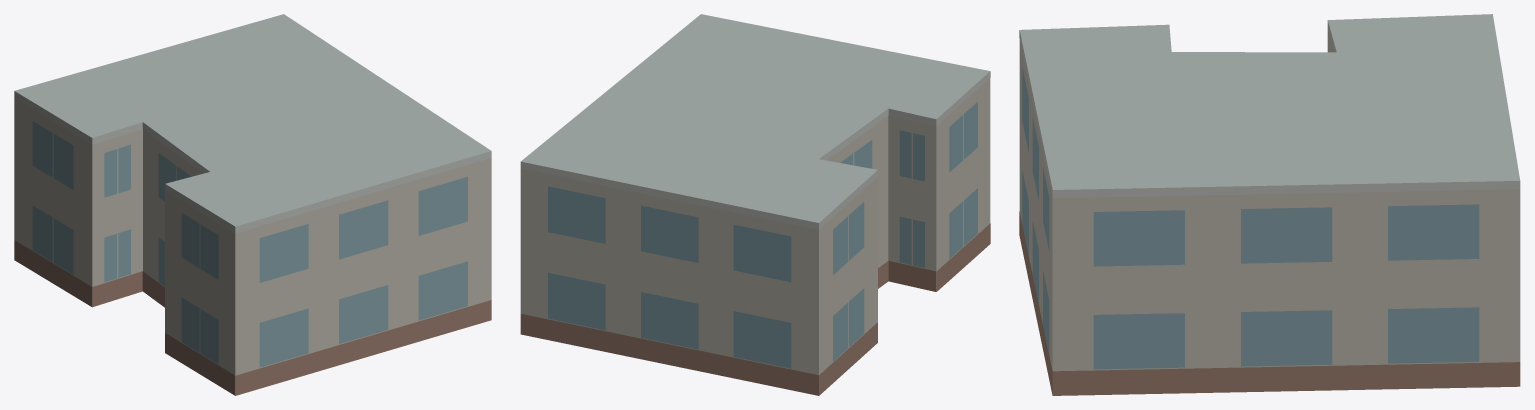
Rendered from survey-upis-32926841.glb.
3 renders of one model, left to right at view 1: azimuth 30°, elevation 25°; view 2: azimuth 150°, elevation 25°; view 3: azimuth 270°, elevation 25°, orthographic. The views are drawn at different scales.
Parts seen in each view (by area): view 1: survey-upis-32926841.tmp; view 2: survey-upis-32926841.tmp; view 3: survey-upis-32926841.tmp.
Boxes of the visible parts, x1=… form: survey-upis-32926841.tmp: x1=14, y1=14, x2=491, y2=395; survey-upis-32926841.tmp: x1=520, y1=14, x2=990, y2=395; survey-upis-32926841.tmp: x1=1019, y1=14, x2=1520, y2=395.
Bounding box in the file's own units: 11.19 × 6.1 × 13.46.
